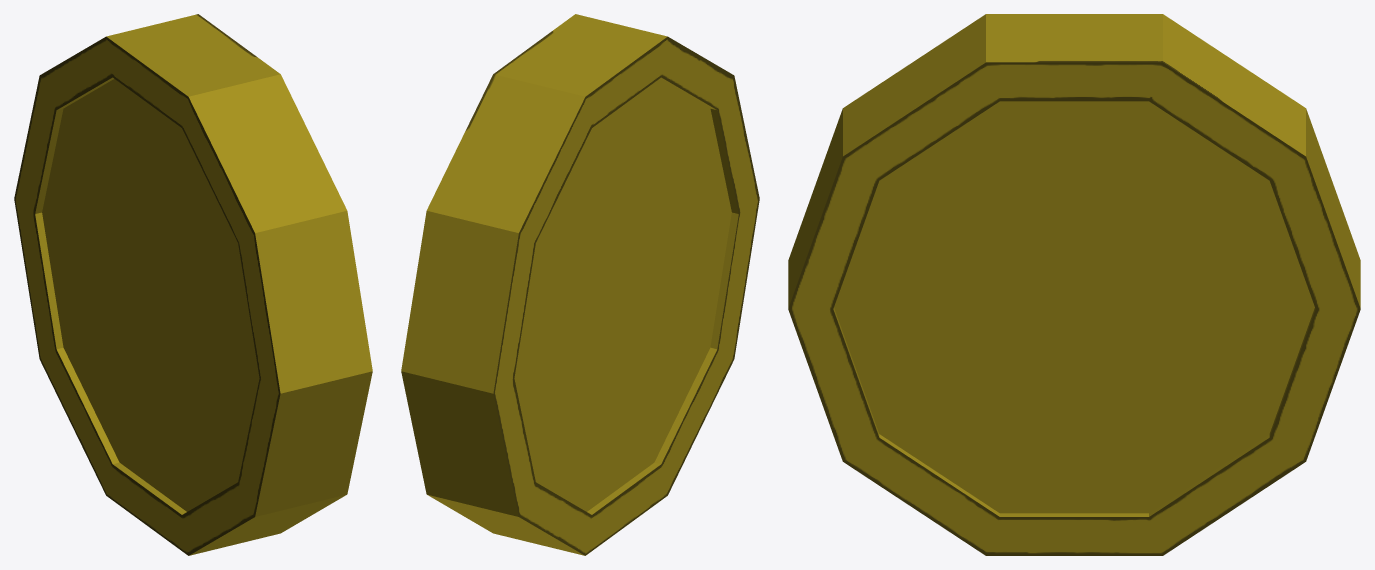
File: moneda3d.glb
The picture shows the model from 3 angles, left to right: view 1: azimuth 30°, elevation 25°; view 2: azimuth 150°, elevation 25°; view 3: azimuth 270°, elevation 25°; orthographic projection. The views are drawn at different scales.
Parts seen in each view (by area): view 1: Cilindro; view 2: Cilindro; view 3: Cilindro.
Boxes of the visible parts, x1,y1,x2,y2 form: Cilindro: (14,14,372,555); Cilindro: (401,14,759,555); Cilindro: (788,14,1360,555).
Bounding box in the file's own units: 0.4 × 1.9 × 2.
1 material, 1 textured.
